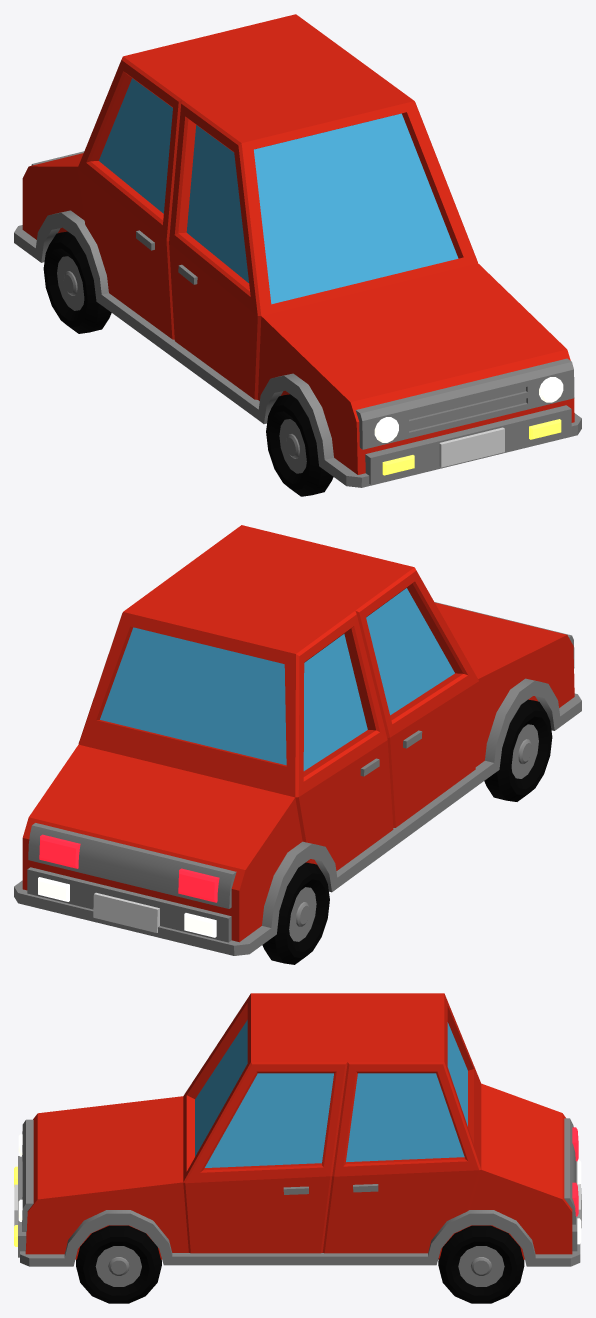
The model's file is Carro-Vermelho.fbx.
3 views of the same model, one above another, from view 1: azimuth 30°, elevation 25°; view 2: azimuth 150°, elevation 25°; view 3: azimuth 270°, elevation 25° (orthographic). The views are drawn at different scales.
Visible parts, largest first — view 1: Cube, Cylinder.001, Cylinder, Cube.002, Cube.001, Cube.003, Cylinder.002, Cube.004; view 2: Cube, Cylinder.001, Cylinder, Cube.009, Cube.006, Cube.010, Cube.007, Cube.008; view 3: Cube, Cylinder, Cylinder.001, Cube.002, Cube.009, Cube.005, Cube.001.
Part boxes in pixels (x1,y1,x2,y2): Cube: (22, 14, 574, 474); Cylinder.001: (14, 210, 581, 487); Cylinder: (43, 231, 333, 496); Cube.002: (355, 358, 574, 449); Cube.001: (365, 405, 571, 484); Cube.003: (439, 427, 504, 467); Cylinder.002: (374, 377, 563, 442); Cube.004: (382, 419, 561, 475); Cube: (22, 525, 574, 942); Cylinder.001: (14, 678, 581, 955); Cylinder: (262, 699, 552, 964); Cube.009: (28, 823, 236, 908); Cube.006: (27, 867, 231, 942); Cube.010: (39, 834, 219, 902); Cube.007: (93, 892, 159, 932); Cube.008: (38, 877, 216, 937); Cube: (25, 993, 572, 1259); Cylinder: (76, 1225, 524, 1303); Cylinder.001: (20, 1210, 580, 1266); Cube.002: (22, 1119, 33, 1231); Cube.009: (564, 1118, 575, 1224); Cube.005: (283, 1184, 378, 1194); Cube.001: (18, 1156, 26, 1257).
Bounding box in the file's own units: 360 × 402 × 896.
